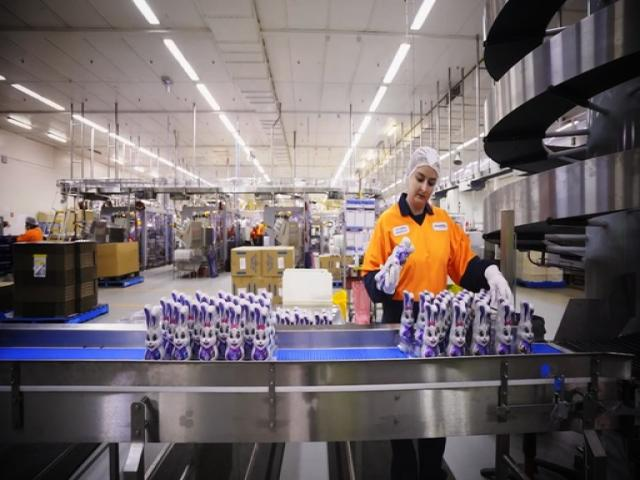conveyor: (11, 301, 640, 434)
